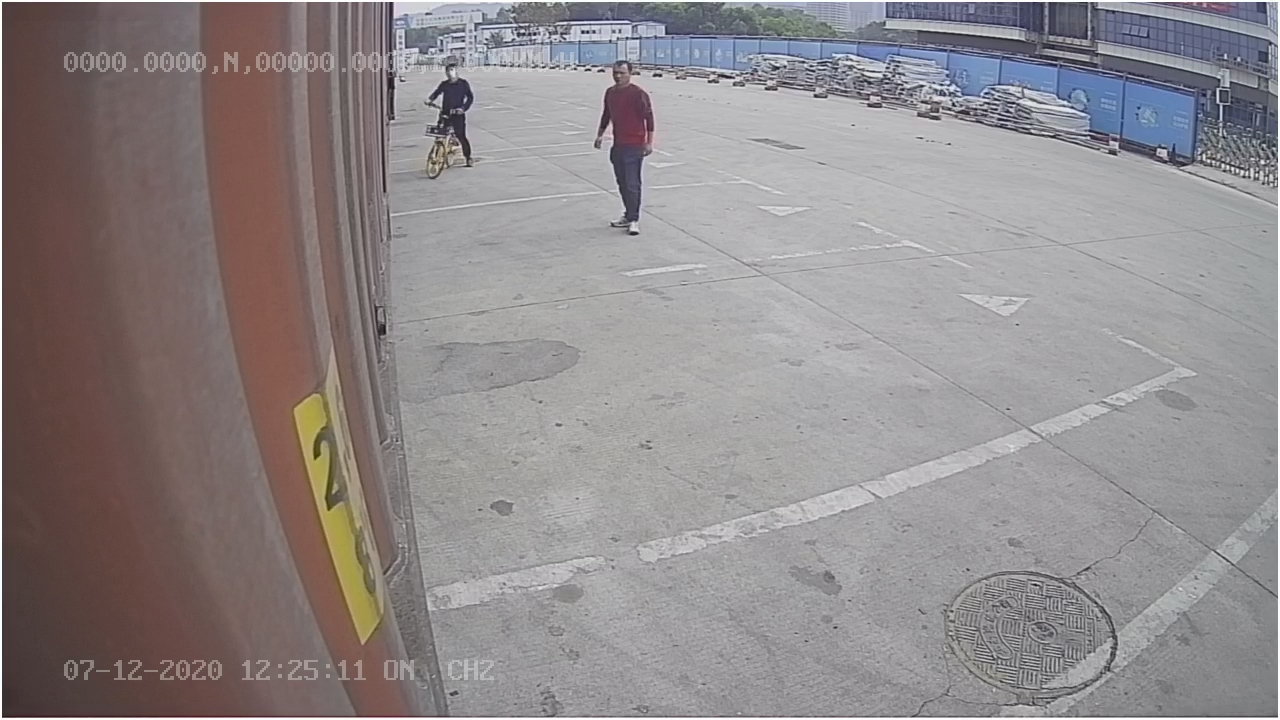person: (583, 58, 659, 236)
